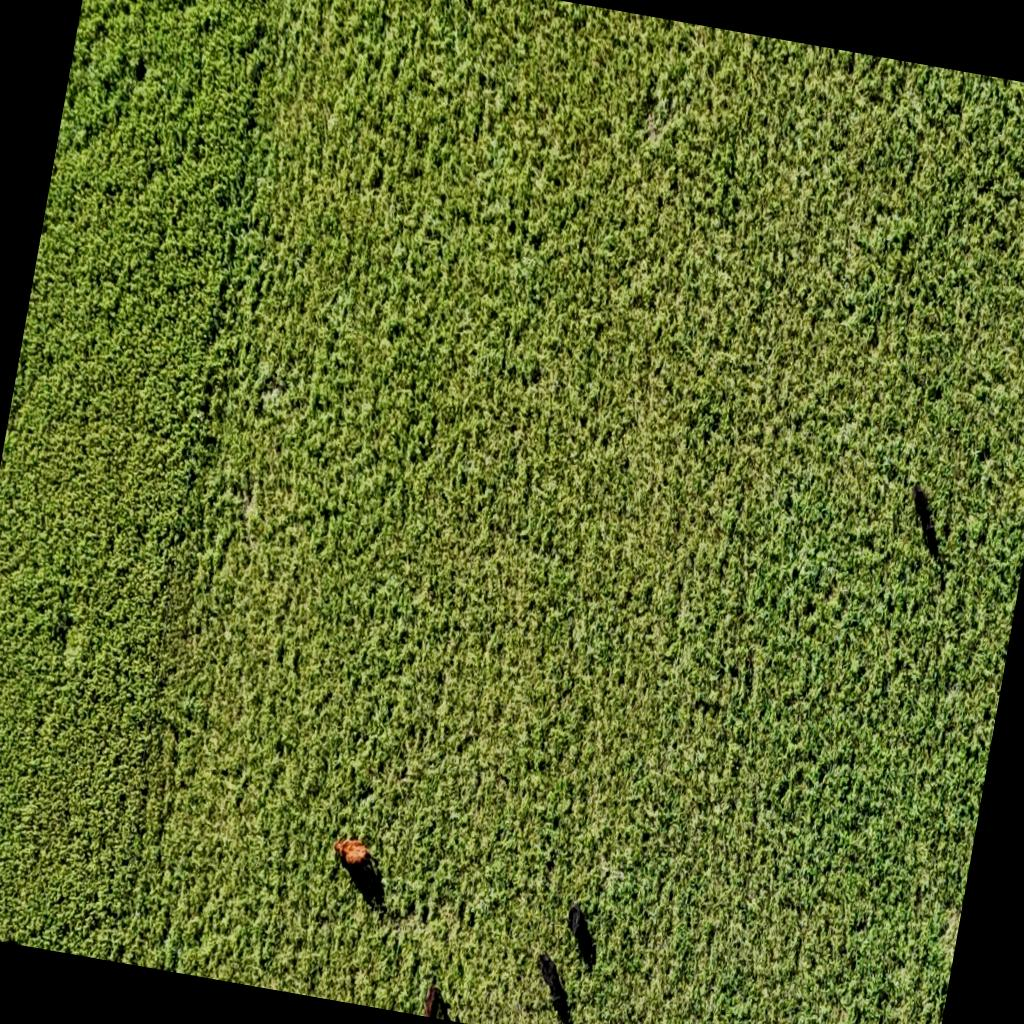cow: (325, 829, 380, 883), (905, 484, 946, 552), (532, 950, 576, 1006), (562, 899, 600, 957), (422, 982, 454, 1020)
